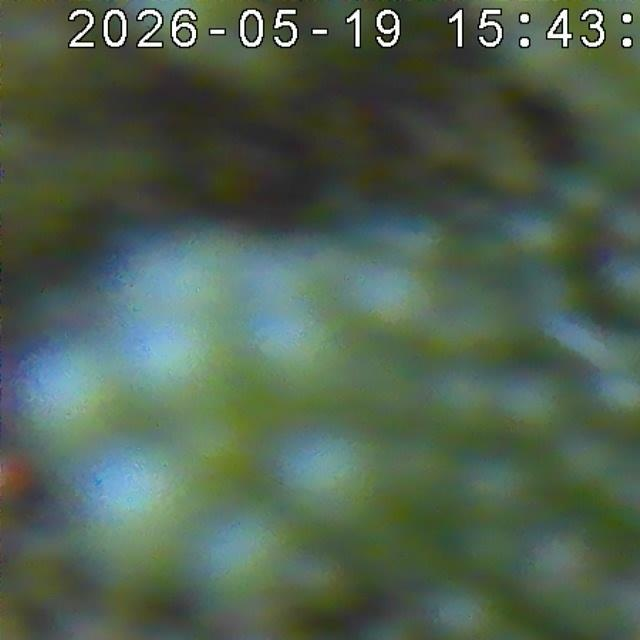SeaGrape: (58, 446, 192, 584), (233, 285, 358, 395), (267, 421, 385, 531), (17, 348, 130, 455), (509, 515, 614, 626), (188, 517, 293, 621), (120, 315, 226, 415), (340, 253, 445, 348), (450, 441, 547, 532), (419, 357, 512, 448), (491, 360, 579, 450), (544, 426, 618, 508), (277, 540, 350, 616), (421, 577, 505, 640)
